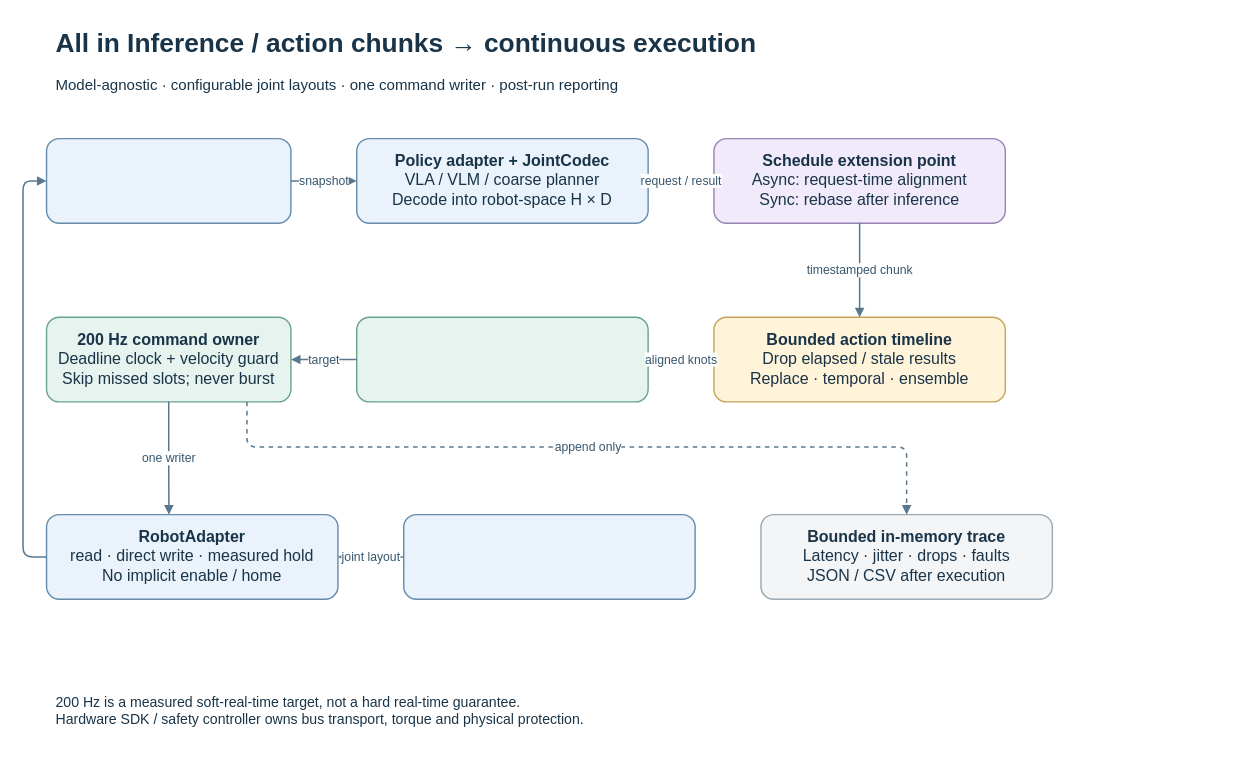
Image size: 1238x758. Some labels were removed from this diagram. Here are the shapes that lost their labels. From the top down, the centre of each, then its label:
pixel 168 181: Observation worker Fresh state + sensor snapshot Independent read rate
pixel 502 359: Continuous target Linear / monotone cubic Per-axis blending masks
pixel 549 557: RobotSpec Names · units · limits · groups Single / dual / mixed joints
